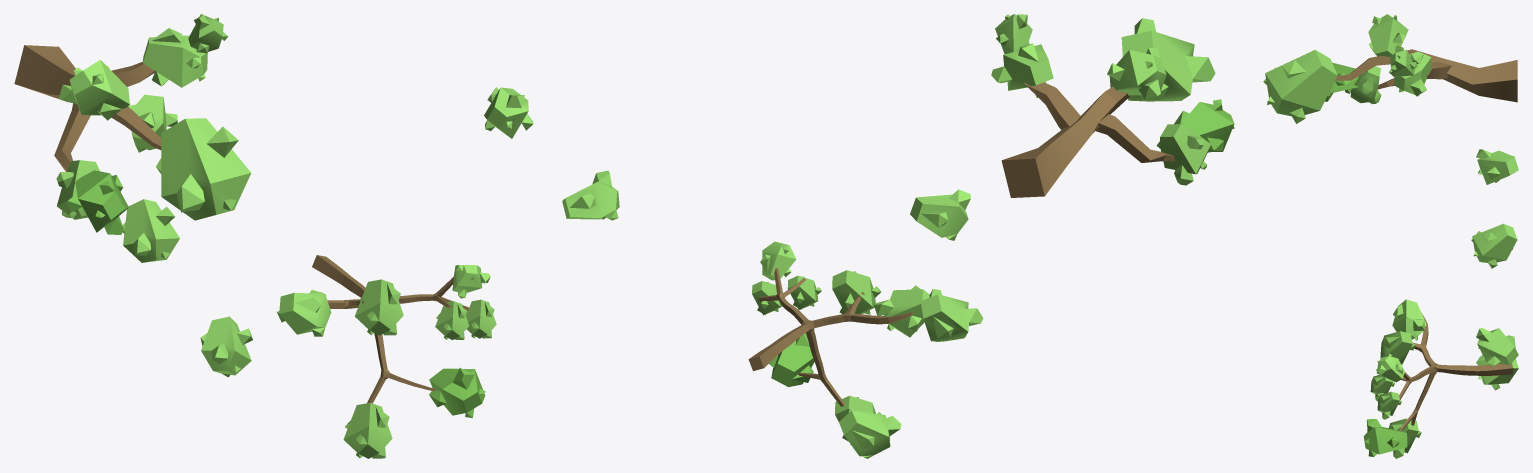
The model's file is charlottesville.glb.
3 views of the same model, side by side, from view 1: azimuth 30°, elevation 25°; view 2: azimuth 150°, elevation 25°; view 3: azimuth 270°, elevation 25° (orthographic). The views are drawn at different scales.
Visible parts, largest first — view 1: BranchesCBranchesuBranchesbBrancheseBranches.Branches0Branc. (×16), Trunk.016, Plane_Material_002_0.012, BranchesCBranchesuBranchesbBrancheseBranchesBranch.016; view 2: BranchesCBranchesuBranchesbBrancheseBranches.Branches0Branc. (×14), Trunk.016, Plane_Material_002_0.012, BranchesCBranchesuBranchesbBrancheseBranchesBranch.016; view 3: BranchesCBranchesuBranchesbBrancheseBranches.Branches0Branc. (×16), Trunk.016, Plane_Material_002_0.012, BranchesCBranchesuBranchesbBrancheseBranchesBranch.016.
Boxes of the visible parts, x1,y1,x2,y2 form: BranchesCBranchesuBranchesbBrancheseBranches.Branches0Branc. (×16): (59,14,533,458); Trunk.016: (14,45,161,171); Plane_Material_002_0.012: (312,255,468,403); BranchesCBranchesuBranchesbBrancheseBranchesBranch.016: (56,160,99,219); BranchesCBranchesuBranchesbBrancheseBranches.Branches0Branc. (×14): (562,14,1234,458); Trunk.016: (1001,82,1175,197); Plane_Material_002_0.012: (748,268,913,406); BranchesCBranchesuBranchesbBrancheseBranchesBranch.016: (1156,124,1210,185); BranchesCBranchesuBranchesbBrancheseBranches.Branches0Branc. (×16): (1263,14,1518,458); Trunk.016: (1335,49,1517,102); Plane_Material_002_0.012: (1399,313,1512,430); BranchesCBranchesuBranchesbBrancheseBranchesBranch.016: (1345,66,1381,104).
Size of what is drawn, in the model's own units: 2.65 by 2.15 by 1.43.
